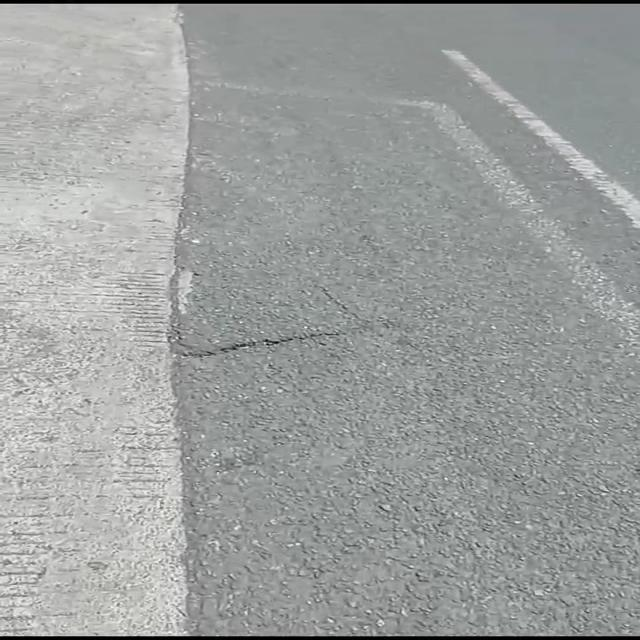Sambungan: (0, 0, 195, 633)
